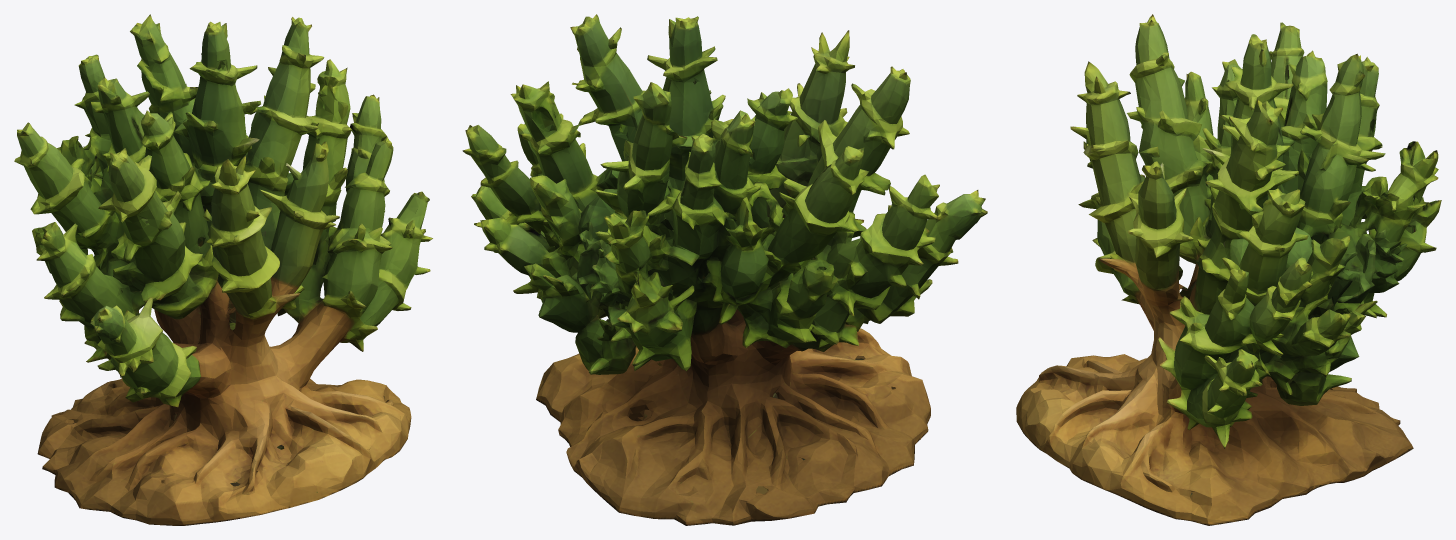
3 views of the same model, side by side, from view 1: azimuth 30°, elevation 25°; view 2: azimuth 150°, elevation 25°; view 3: azimuth 270°, elevation 25° (orthographic). The views are drawn at different scales.
Visible parts, largest first — view 1: world; view 2: world; view 3: world.
Part boxes in pixels (x1=…): world: x1=14, y1=14, x2=432, y2=525; world: x1=462, y1=14, x2=987, y2=525; world: x1=1016, y1=14, x2=1441, y2=525.
Size of the model in its own units: 0.3656 by 0.35 by 0.32.
Materials: 1 (1 with a texture image).
